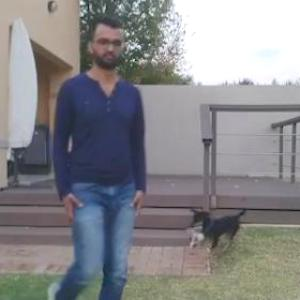follow: (60, 19, 167, 299)
